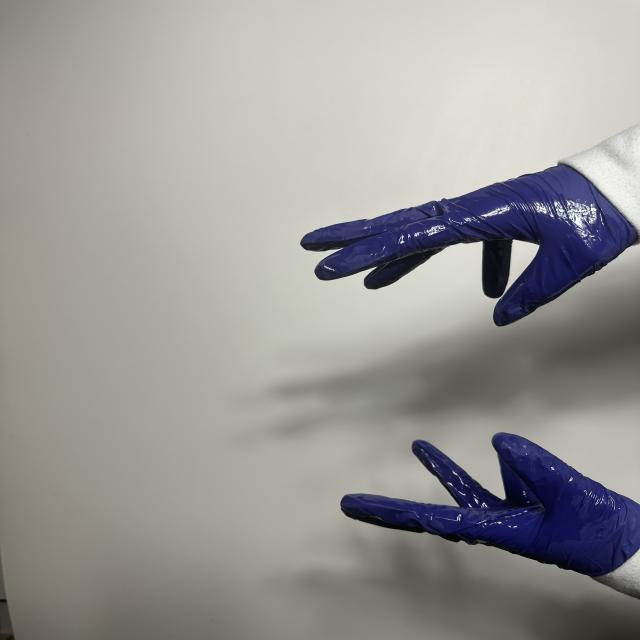gloves_contaminated: (301, 165, 637, 326), (341, 433, 640, 577)
